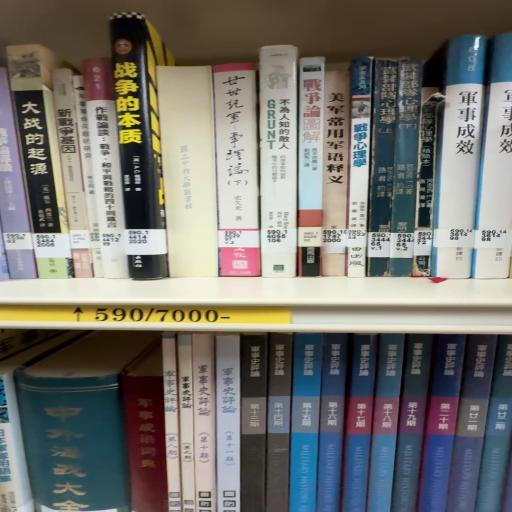backward: (158, 62, 222, 276)
book: (212, 60, 260, 276), (256, 48, 297, 276), (0, 58, 39, 285), (215, 336, 243, 512)
